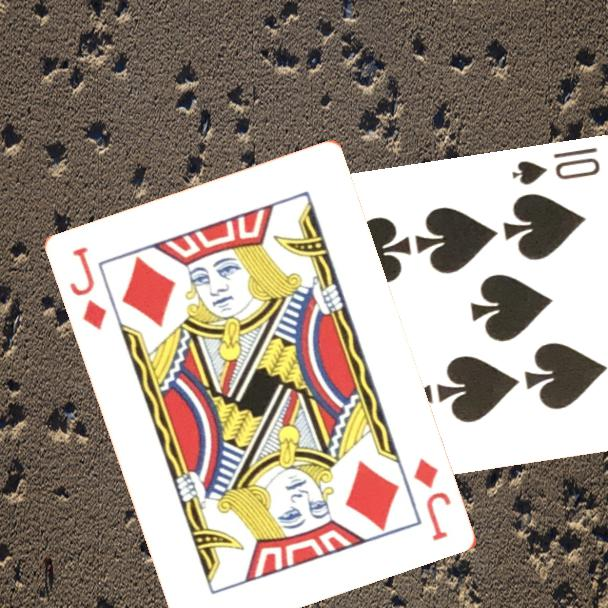d11: (411, 454, 455, 544), (66, 243, 110, 333)
s10: (508, 145, 603, 189)
